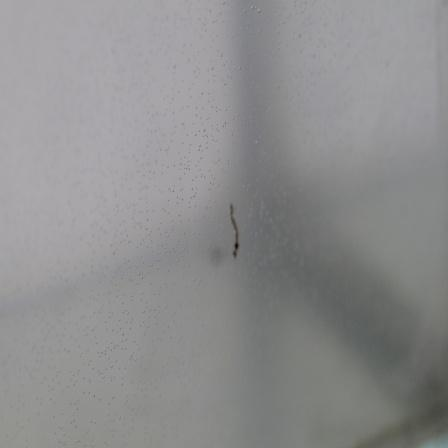Jentik-Nyamuk: (225, 201, 245, 265)
